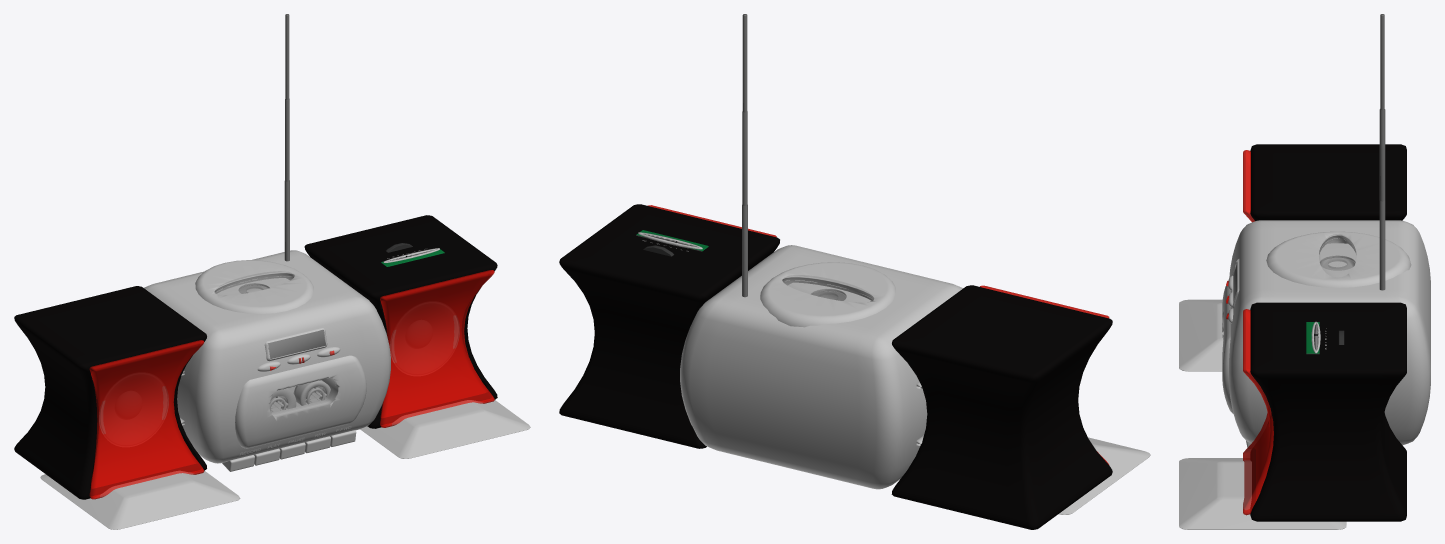
The model's file is 17545_Radio.fbx.
3 views of the same model, side by side, from view 1: azimuth 30°, elevation 25°; view 2: azimuth 150°, elevation 25°; view 3: azimuth 270°, elevation 25° (orthographic). The views are drawn at different scales.
Visible parts, largest first — view 1: ChamferBo1, ChamferBo5, ChamferBo6, ChamferBox, ChamferBo2, ChamferBo3, ChamferBo4, ChamferBo0, ChamferCy5, Box28, Box26; view 2: ChamferBo1, ChamferBo5, ChamferBo2, ChamferCy5, ChamferBo4; view 3: ChamferBo2, ChamferBo1, ChamferBo5, ChamferBo0, ChamferCy5, ChamferBo4, ChamferBox, ChamferBo3, Tube07, ChamferCy3, ChamferCy2, ChamferBo6 (+2 smaller).
Part boxes in pixels (<box>): ChamferBo1: <box>144,250,390,463</box>; ChamferBo5: <box>14,286,206,499</box>; ChamferBo6: <box>89,340,204,499</box>; ChamferBox: <box>380,270,494,427</box>; ChamferBo2: <box>304,215,497,428</box>; ChamferBo3: <box>235,355,366,448</box>; ChamferBo4: <box>40,471,240,529</box>; ChamferBo0: <box>360,400,530,458</box>; ChamferCy5: <box>195,260,313,313</box>; Box28: <box>270,378,331,412</box>; Box26: <box>268,330,325,358</box>; ChamferBo1: <box>680,245,963,489</box>; ChamferBo5: <box>891,285,1112,529</box>; ChamferBo2: <box>559,204,779,448</box>; ChamferCy5: <box>760,262,895,327</box>; ChamferBo4: <box>1058,437,1150,514</box>; ChamferBo2: <box>1250,302,1406,521</box>; ChamferBo1: <box>1229,220,1430,445</box>; ChamferBo5: <box>1250,144,1406,220</box>; ChamferBo0: <box>1179,458,1346,529</box>; ChamferCy5: <box>1266,231,1411,287</box>; ChamferBo4: <box>1179,299,1222,371</box>; ChamferBox: <box>1243,309,1273,515</box>; ChamferBo3: <box>1222,285,1233,413</box>; Tube07: <box>1319,243,1356,277</box>; ChamferCy3: <box>1379,109,1385,201</box>; ChamferCy2: <box>1379,200,1385,290</box>; ChamferBo6: <box>1243,150,1254,222</box>.
Size of the model in its own units: 782 by 684 by 362.
